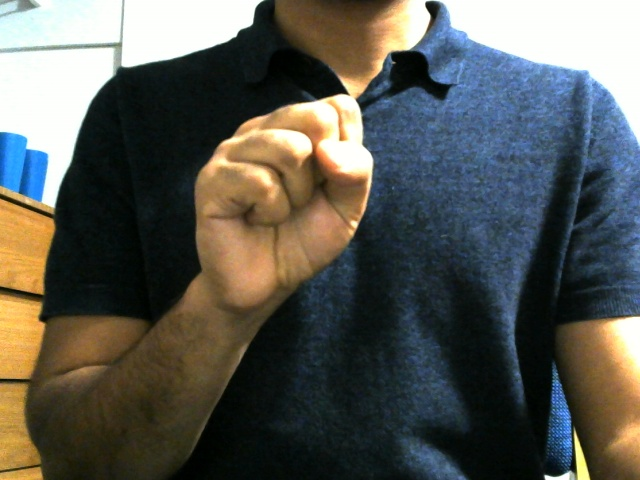S: (185, 88, 377, 304)
